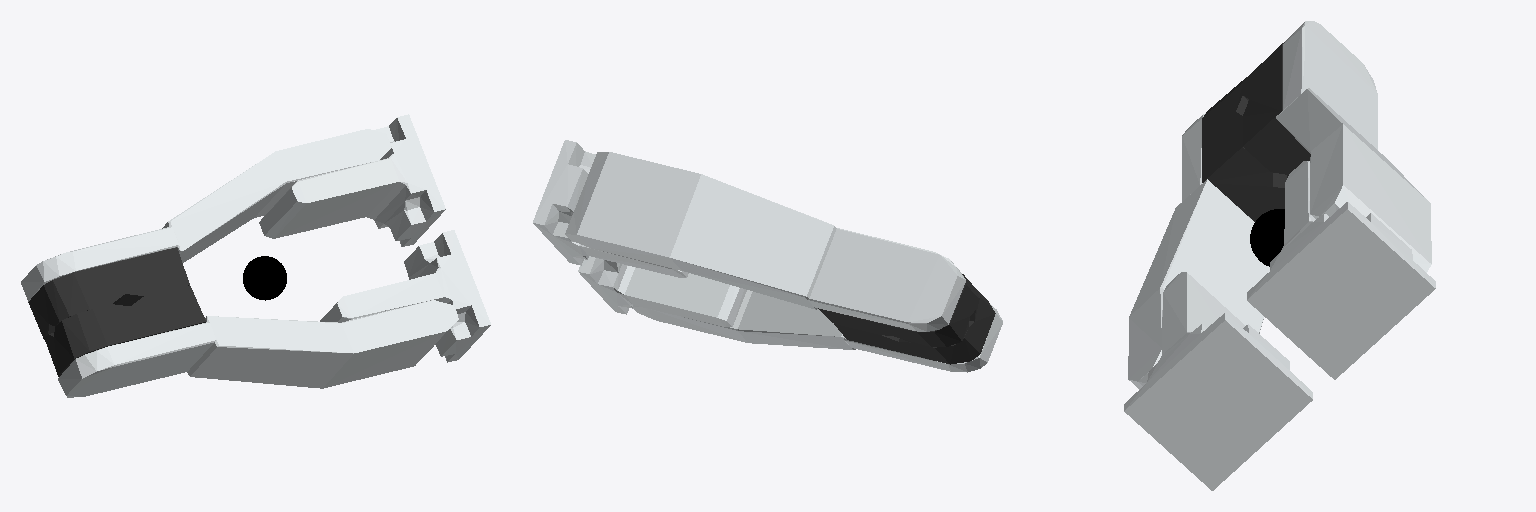
The robot description file, URDF, robot "panda":
<?xml version="1.0" ?>
<robot name="panda" xmlns:xacro="http://www.ros.org/wiki/xacro">
  <material name="Vis"><color rgba="0.0 0.0 0.0 0.0"/></material>
  <link name="panda_link0">
    <visual>
      <geometry>
        <mesh filename="package://franka_description/meshes/visual/link0.dae"/>
      </geometry>
    </visual>
    <collision>
      <geometry>
        <mesh filename="package://franka_description/meshes/collision/link0.obj"/>
      </geometry>
    </collision>
  </link>
  <link name="panda_link1">
    <visual>
      <geometry>
        <mesh filename="package://franka_description/meshes/visual/link1.dae"/>
      </geometry>
    </visual>
    <collision>
      <geometry>
        <mesh filename="package://franka_description/meshes/collision/link1.obj"/>
      </geometry>
    </collision>
  </link>
  <joint name="panda_joint1" type="revolute">
    <safety_controller k_position="100.0" k_velocity="40.0" soft_lower_limit="-2.8973" soft_upper_limit="2.8973"/>
    <origin rpy="0 0 0" xyz="0 0 0.333"/>
    <parent link="panda_link0"/>
    <child link="panda_link1"/>
    <axis xyz="0 0 1"/>
    <dynamics damping="10.0"/>
    <limit effort="117" lower="-2.8973" upper="2.8973" velocity="2.1750"/>
  </joint>
  <link name="panda_link2">
    <visual>
      <geometry>
        <mesh filename="package://franka_description/meshes/visual/link2.dae"/>
      </geometry>
    </visual>
    <collision>
      <geometry>
        <mesh filename="package://franka_description/meshes/collision/link2.obj"/>
      </geometry>
    </collision>
  </link>
  <joint name="panda_joint2" type="revolute">
    <safety_controller k_position="100.0" k_velocity="40.0" soft_lower_limit="-1.7628" soft_upper_limit="1.7628"/>
    <origin rpy="-1.57079632679 0 0" xyz="0 0 0"/>
    <parent link="panda_link1"/>
    <child link="panda_link2"/>
    <axis xyz="0 0 1"/>
    <dynamics damping="10.0"/>
    <limit effort="117" lower="-1.7628" upper="1.7628" velocity="2.1750"/>
  </joint>
  <link name="panda_link3">
    <visual>
      <geometry>
        <mesh filename="package://franka_description/meshes/visual/link3.dae"/>
      </geometry>
    </visual>
    <collision>
      <geometry>
        <mesh filename="package://franka_description/meshes/collision/link3.obj"/>
      </geometry>
    </collision>
  </link>
  <joint name="panda_joint3" type="revolute">
    <safety_controller k_position="100.0" k_velocity="40.0" soft_lower_limit="-2.8973" soft_upper_limit="2.8973"/>
    <origin rpy="1.57079632679 0 0" xyz="0 -0.316 0"/>
    <parent link="panda_link2"/>
    <child link="panda_link3"/>
    <axis xyz="0 0 1"/>
    <dynamics damping="10.0"/>
    <limit effort="117" lower="-2.8973" upper="2.8973" velocity="2.1750"/>
  </joint>
  <link name="panda_link4">
    <visual>
      <geometry>
        <mesh filename="package://franka_description/meshes/visual/link4.dae"/>
      </geometry>
    </visual>
    <collision>
      <geometry>
        <mesh filename="package://franka_description/meshes/collision/link4.obj"/>
      </geometry>
    </collision>
  </link>
  <joint name="panda_joint4" type="revolute">
    <safety_controller k_position="100.0" k_velocity="40.0" soft_lower_limit="-3.0718" soft_upper_limit="-0.0698"/>
    <origin rpy="1.57079632679 0 0" xyz="0.0825 0 0"/>
    <parent link="panda_link3"/>
    <child link="panda_link4"/>
    <axis xyz="0 0 1"/>
    <dynamics damping="10.0"/>
    <limit effort="117" lower="-3.0718" upper="-0.0698" velocity="2.1750"/>
    <!-- something is weird with this joint limit config
    <dynamics damping="10.0"/>
    <limit effort="87" lower="-3.0" upper="0.087" velocity="2.1750"/>  -->
  </joint>
  <link name="panda_link5">
    <visual>
      <geometry>
        <mesh filename="package://franka_description/meshes/visual/link5.dae"/>
      </geometry>
    </visual>
    <collision>
      <geometry>
        <mesh filename="package://franka_description/meshes/collision/link5.obj"/>
      </geometry>
    </collision>
  </link>
  <joint name="panda_joint5" type="revolute">
    <safety_controller k_position="100.0" k_velocity="40.0" soft_lower_limit="-2.8973" soft_upper_limit="2.8973"/>
    <origin rpy="-1.57079632679 0 0" xyz="-0.0825 0.384 0"/>
    <parent link="panda_link4"/>
    <child link="panda_link5"/>
    <axis xyz="0 0 1"/>
    <dynamics damping="10.0"/>
    <limit effort="42" lower="-2.8973" upper="2.8973" velocity="2.6100"/>
  </joint>
  <link name="panda_link6">
    <visual>
      <geometry>
        <mesh filename="package://franka_description/meshes/visual/link6.dae"/>
      </geometry>
    </visual>
    <collision>
      <geometry>
        <mesh filename="package://franka_description/meshes/collision/link6.obj"/>
      </geometry>
    </collision>
  </link>
  <joint name="panda_joint6" type="revolute">
    <safety_controller k_position="100.0" k_velocity="40.0" soft_lower_limit="-0.0175" soft_upper_limit="3.7525"/>
    <origin rpy="1.57079632679 0 0" xyz="0 0 0"/>
    <parent link="panda_link5"/>
    <child link="panda_link6"/>
    <axis xyz="0 0 1"/>
    <dynamics damping="10.0"/>
    <limit effort="42" lower="-0.0175" upper="3.7525" velocity="2.6100"/>
    <!-- <dynamics damping="10.0"/>
    <limit effort="12" lower="-0.0873" upper="3.0" velocity="2.6100"/> -->
  </joint>
  <link name="panda_link7">
    <visual>
      <geometry>
        <mesh filename="package://franka_description/meshes/visual/link7.dae"/>
      </geometry>
    </visual>
    <collision>
      <geometry>
        <mesh filename="package://franka_description/meshes/collision/link7.obj"/>
      </geometry>
    </collision>
  </link>
  <joint name="panda_joint7" type="revolute">
    <safety_controller k_position="100.0" k_velocity="40.0" soft_lower_limit="-2.8973" soft_upper_limit="2.8973"/>
    <origin rpy="1.57079632679 0 0" xyz="0.088 0 0"/>
    <parent link="panda_link6"/>
    <child link="panda_link7"/>
    <axis xyz="0 0 1"/>
    <dynamics damping="10.0"/>
    <limit effort="42" lower="-2.8973" upper="2.8973" velocity="2.6100"/>
  </joint>
  <!--
  <link name="panda_link8"/>
  <joint name="panda_joint8" type="fixed">
    <origin rpy="0 0 0" xyz="0 0 0.107"/>
    <parent link="panda_link7"/>
    <child link="panda_link8"/>
    <axis xyz="0 0 0"/>
  </joint>
  Removing this joint seems to help with some stability things
  -->
  <joint name="panda_hand_joint" type="fixed">
    <!--
    <parent link="panda_link8"/>
    -->
    <parent link="panda_link7"/>
    <child link="panda_hand"/>
    <origin rpy="0 0 -0.785398163397" xyz="0 0 0.107"/>
    <!--
    <origin rpy="0 0 -0.785398163397" xyz="0 0 0"/>
    -->
  </joint>
  <link name="panda_hand">
    <visual>
      <geometry>
        <mesh filename="package://franka_description/meshes/visual/hand.dae"/>
      </geometry>
    </visual>
    <collision>
      <geometry>
        <mesh filename="package://franka_description/meshes/collision/hand.obj"/>
      </geometry>
    </collision>
  </link>
  <joint name="panda_hand_y_axis_joint" type="fixed">
    <parent link="panda_hand"/>
    <child link="panda_hand_y_axis"/>
    <origin rpy="0 0 0" xyz="0 0.01 0"/>
  </joint>
  <link name="panda_hand_y_axis">
  </link>
  <joint name="panda_hand_z_axis_joint" type="fixed">
    <parent link="panda_hand"/>
    <child link="panda_hand_z_axis"/>
    <origin rpy="0 0 0" xyz="0 0 0.01"/>
  </joint>
  <link name="panda_hand_z_axis">
  </link>
  <link name="panda_leftfinger">
    <visual>
      <geometry>
        <mesh filename="package://franka_description/meshes/visual/extended_finger.dae"/>
      </geometry>
    </visual>
    <collision>
      <geometry>
        <mesh filename="package://franka_description/meshes/collision/extended_finger.obj"/>
      </geometry>
    </collision>
  </link>
  <link name="panda_rightfinger">
    <visual>
      <origin rpy="0 0 3.14159265359" xyz="0 0 0"/>
      <geometry>
        <mesh filename="package://franka_description/meshes/visual/extended_finger.dae"/>
      </geometry>
    </visual>
    <collision>
      <origin rpy="0 0 3.14159265359" xyz="0 0 0"/>
      <geometry>
        <mesh filename="package://franka_description/meshes/collision/extended_finger.obj"/>
      </geometry>
    </collision>
  </link>
  <joint name="panda_finger_joint1" type="prismatic">
    <parent link="panda_hand"/>
    <child link="panda_leftfinger"/>
    <origin rpy="0 0 0" xyz="0 0 0.0584"/>
    <axis xyz="0 1 0"/>
    <dynamics damping="10.0"/>
    <limit effort="50" lower="0.0" upper="0.04" velocity="0.2"/>
  </joint>
  <joint name="panda_finger_joint2" type="prismatic">
    <parent link="panda_hand"/>
    <child link="panda_rightfinger"/>
    <origin rpy="0 0 0" xyz="0 0 0.0584"/>
    <axis xyz="0 -1 0"/>
    <dynamics damping="10.0"/>
    <limit effort="50" lower="0.0" upper="0.04" velocity="0.2"/>
    <mimic joint="panda_finger_joint1"/>
  </joint>
  <joint name="panda_grip_vis_joint" type="fixed">
    <parent link="panda_hand"/>
    <child link="panda_grip_site"/>
    <origin rpy="1.57 0 1.57" xyz="0 0 0.1025"/>
  </joint>
  <link name="panda_grip_site">
    <visual>
      <geometry>
        <sphere radius="0.005"/>
      </geometry>
      <material name="Vis"/>
    </visual>
  </link>

  <joint name="panda_leftfinger_tip_joint" type="fixed">
    <parent link="panda_leftfinger"/>
    <child link="panda_leftfinger_tip"/>
    <origin rpy="0 0 0" xyz="0.0 0.0015 0.0441"/>
  </joint>
  <link name="panda_leftfinger_tip">
    <collision>
      <geometry>
        <box size="0.013 0.004 0.013"/>
      </geometry>
    </collision>
  </link>

  <joint name="panda_rightfinger_tip_joint" type="fixed">
    <parent link="panda_rightfinger"/>
    <child link="panda_rightfinger_tip"/>
    <origin rpy="0 0 0" xyz="0.0 -0.0015 0.0441"/>
  </joint>
  <link name="panda_rightfinger_tip">
    <collision>
      <geometry>
        <box size="0.013 0.004 0.013"/>
      </geometry>
    </collision>
  </link>

</robot>

--- Facts derived from the render (not from the file) ---
The picture shows the robot from 3 angles, left to right: view 1: azimuth 30°, elevation 25°; view 2: azimuth 150°, elevation 25°; view 3: azimuth 270°, elevation 25°; orthographic projection.
Robot: panda — 16 links, 15 joints (7 revolute, 2 prismatic, 6 fixed); root link panda_link0; default pose: joints at zero except 1 at the middle of their limits (panda_joint4 = -1.57).
Links seen in each view (by area): view 1: panda_leftfinger, panda_rightfinger, panda_grip_site; view 2: panda_rightfinger, panda_leftfinger; view 3: panda_rightfinger, panda_leftfinger, panda_grip_site.
Boxes of the visible links, x1=… form: panda_leftfinger: x1=44, y1=230, x2=490, y2=397; panda_rightfinger: x1=21, y1=114, x2=445, y2=339; panda_grip_site: x1=243, y1=256, x2=286, y2=300; panda_rightfinger: x1=533, y1=140, x2=979, y2=346; panda_leftfinger: x1=578, y1=256, x2=1002, y2=372; panda_rightfinger: x1=1243, y1=21, x2=1435, y2=379; panda_leftfinger: x1=1124, y1=77, x2=1312, y2=490; panda_grip_site: x1=1250, y1=209, x2=1284, y2=266.
Size in the robot's own frame: 0.0994 by 0.0519 by 0.0519 metres.
Meshes: 10 distinct files referenced, 2 mesh visuals loaded (1 Collada DAE); not drawn: 9 (reference not matched to a file when rendering).